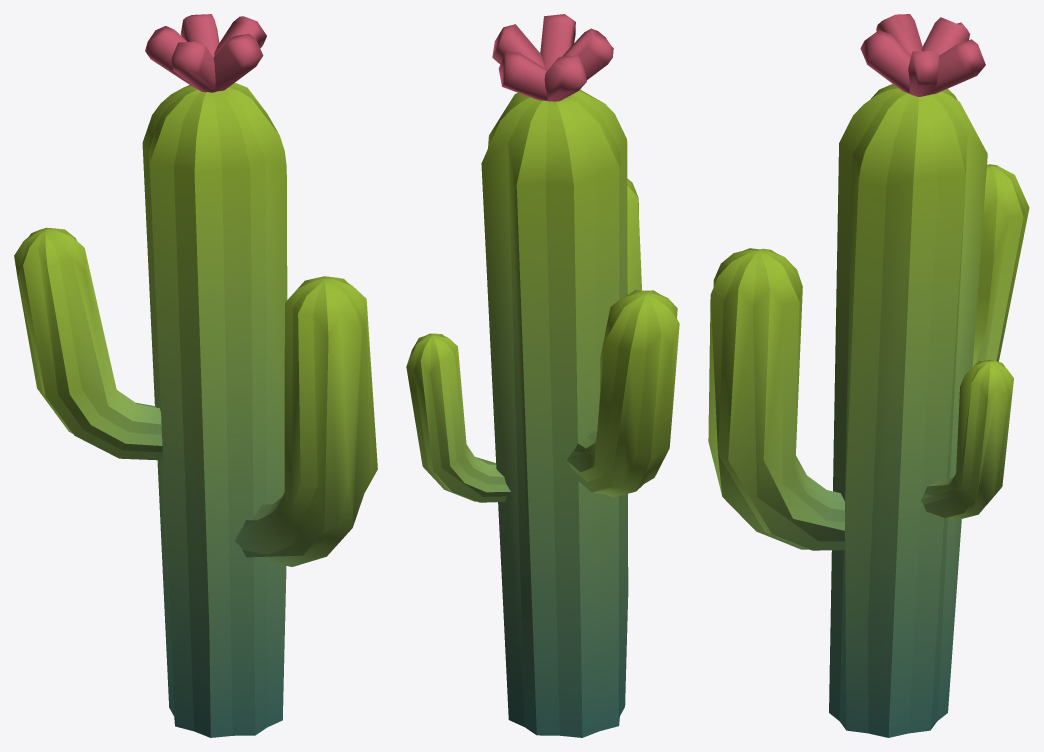
3 views of the same model, side by side, from view 1: azimuth 30°, elevation 25°; view 2: azimuth 150°, elevation 25°; view 3: azimuth 270°, elevation 25° (orthographic). The views are drawn at different scales.
Visible parts, largest first — view 1: LOD 1_7895142726789826799_f747010238922ae448abd02d66270030; view 2: LOD 1_7895142726789826799_f747010238922ae448abd02d66270030; view 3: LOD 1_7895142726789826799_f747010238922ae448abd02d66270030.
Boxes of the visible parts, box(x1,y1,x2,y2) form: LOD 1_7895142726789826799_f747010238922ae448abd02d66270030: box(14, 14, 377, 737); LOD 1_7895142726789826799_f747010238922ae448abd02d66270030: box(406, 14, 679, 737); LOD 1_7895142726789826799_f747010238922ae448abd02d66270030: box(708, 14, 1029, 737).
Size of the model in its own units: 1.08 by 2.66 by 1.13.
